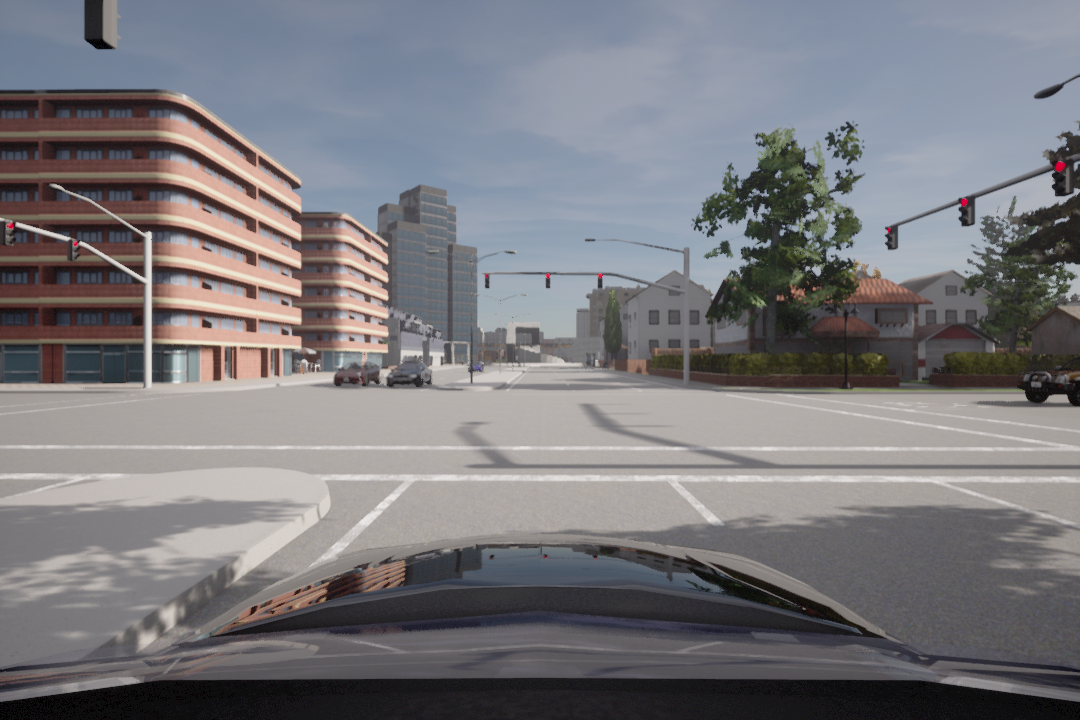TrafficLight: (1047, 153, 1075, 195), (957, 194, 981, 228), (884, 222, 901, 252), (66, 237, 83, 266), (4, 215, 17, 249), (544, 272, 554, 292), (483, 271, 491, 292), (597, 273, 605, 291)
